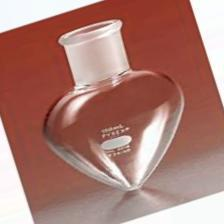Pear shaped flask: (21, 19, 178, 194)
